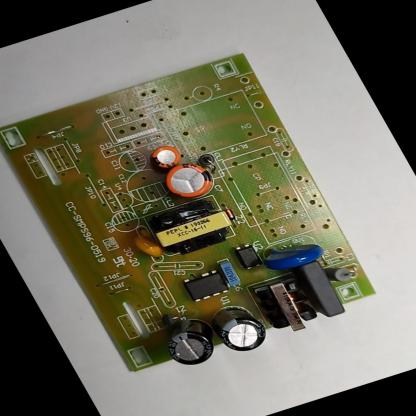Cap1: (154, 156, 222, 205)
Cap2: (144, 140, 189, 173)
Cap3: (202, 298, 276, 360)
Cap4: (152, 312, 224, 373)
MOSFET: (174, 264, 238, 307)
Mov: (255, 233, 332, 278)
Resistor: (319, 259, 358, 288)
Transformer: (138, 190, 245, 265), (242, 270, 328, 342)
